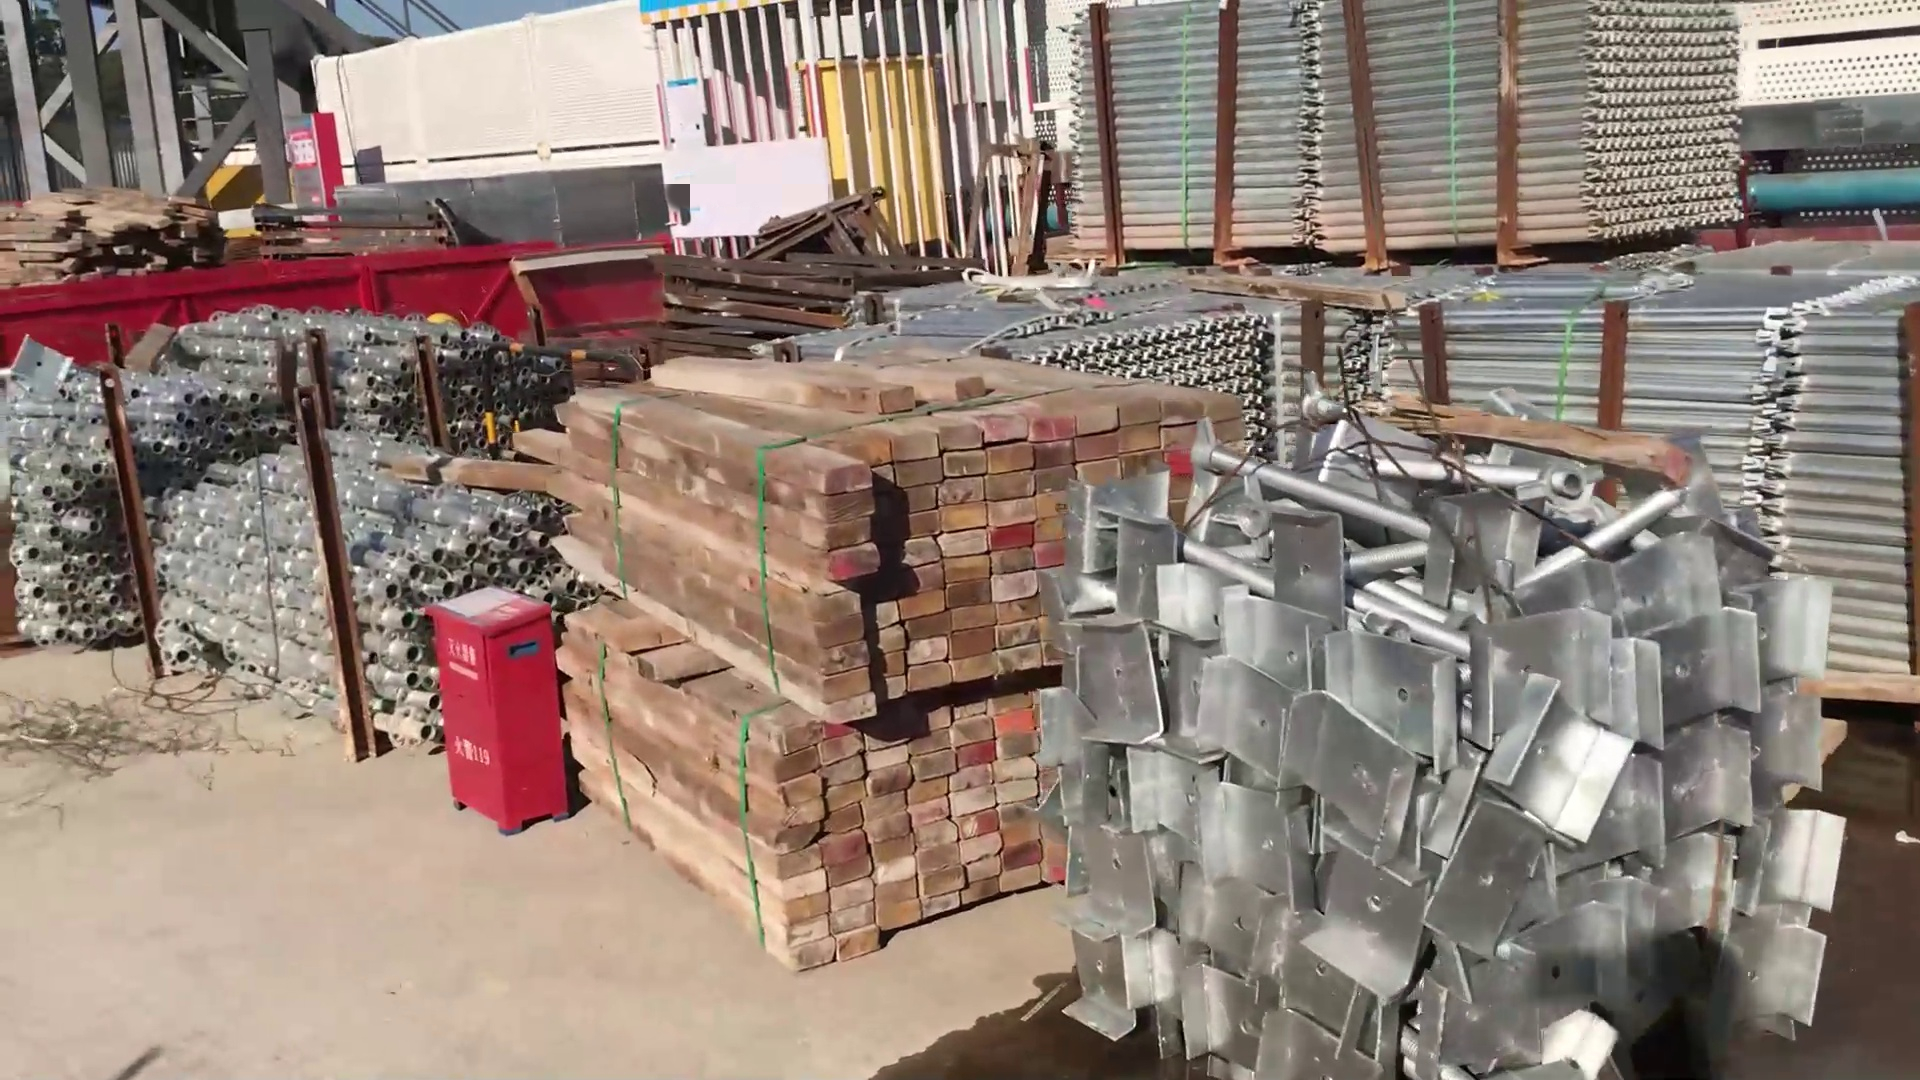scaffold: (3, 311, 550, 760), (1400, 241, 1920, 632), (1065, 4, 1747, 225), (1017, 295, 1396, 431)
wood: (554, 343, 1069, 957), (1, 181, 227, 287)
